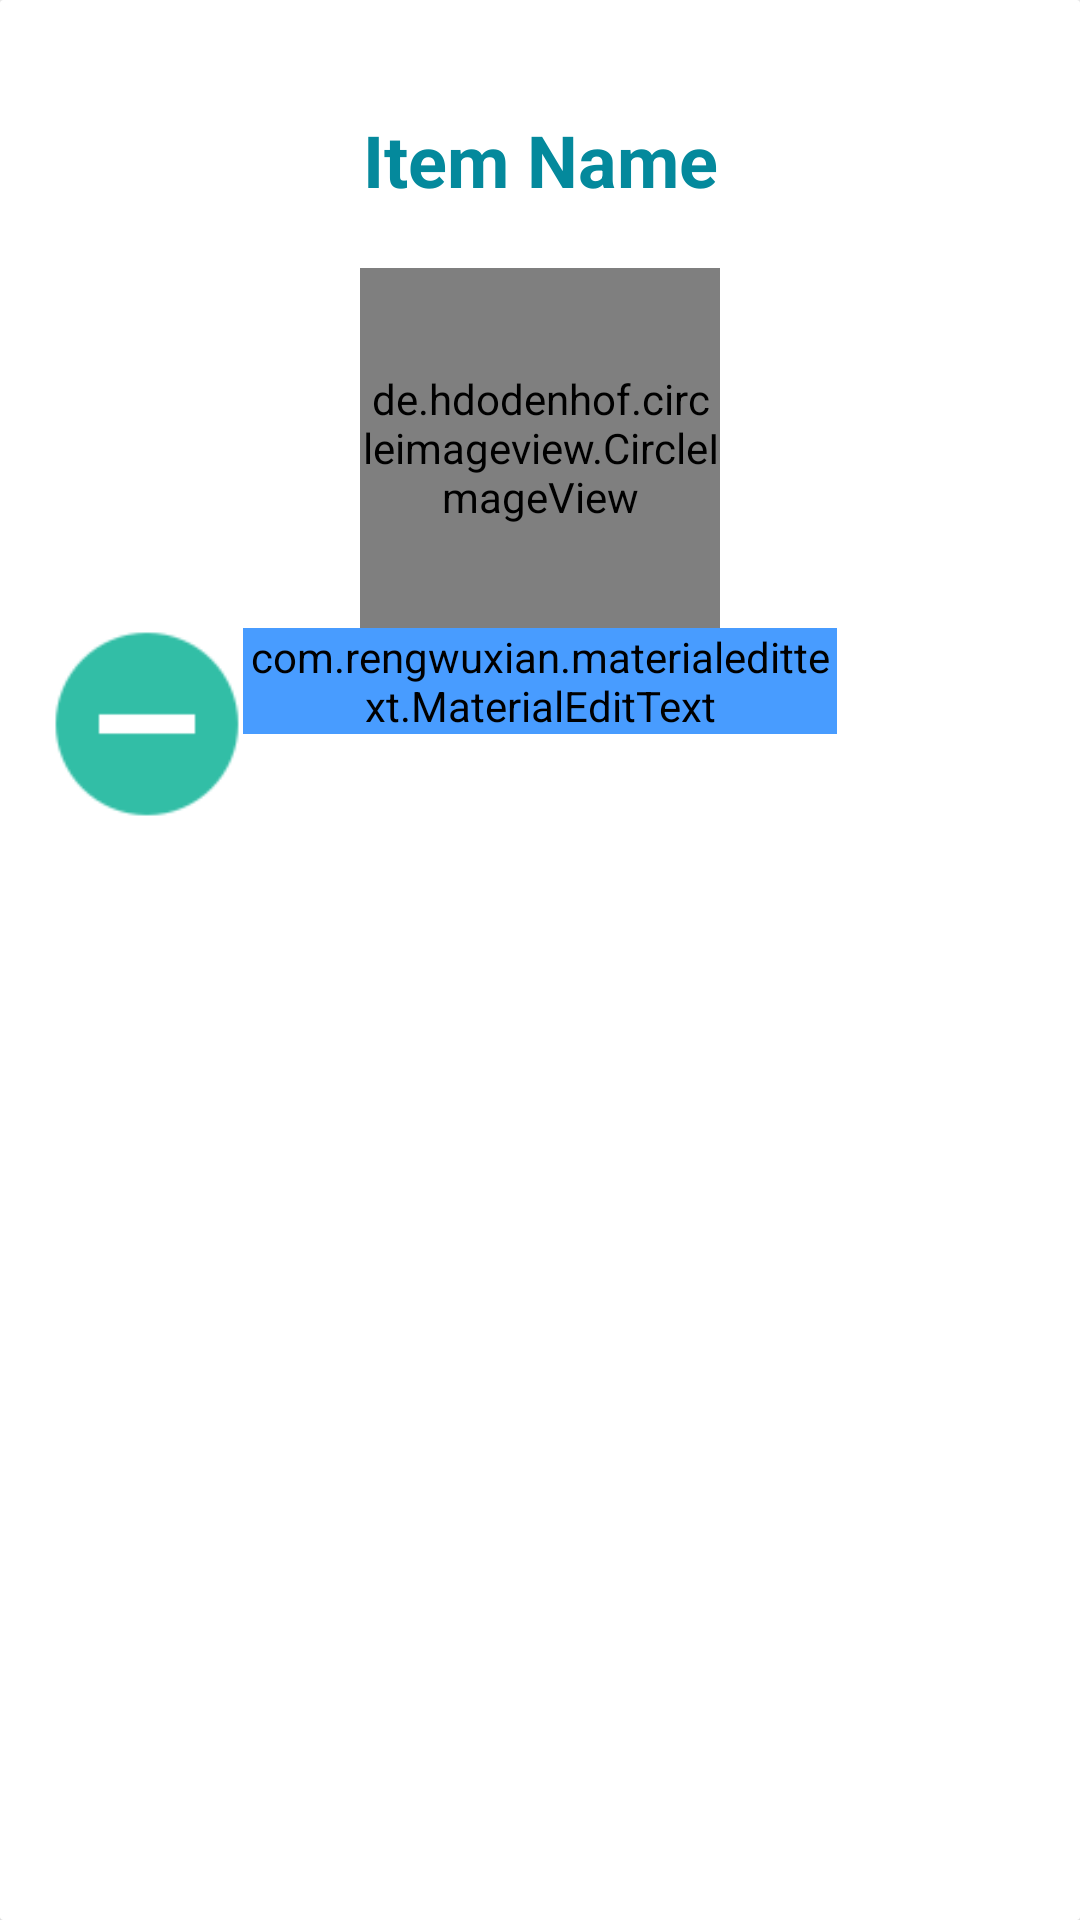

Icon click points for this 1080w x 1920h phone screenshot, format (x,y):
minus: (147,724)
